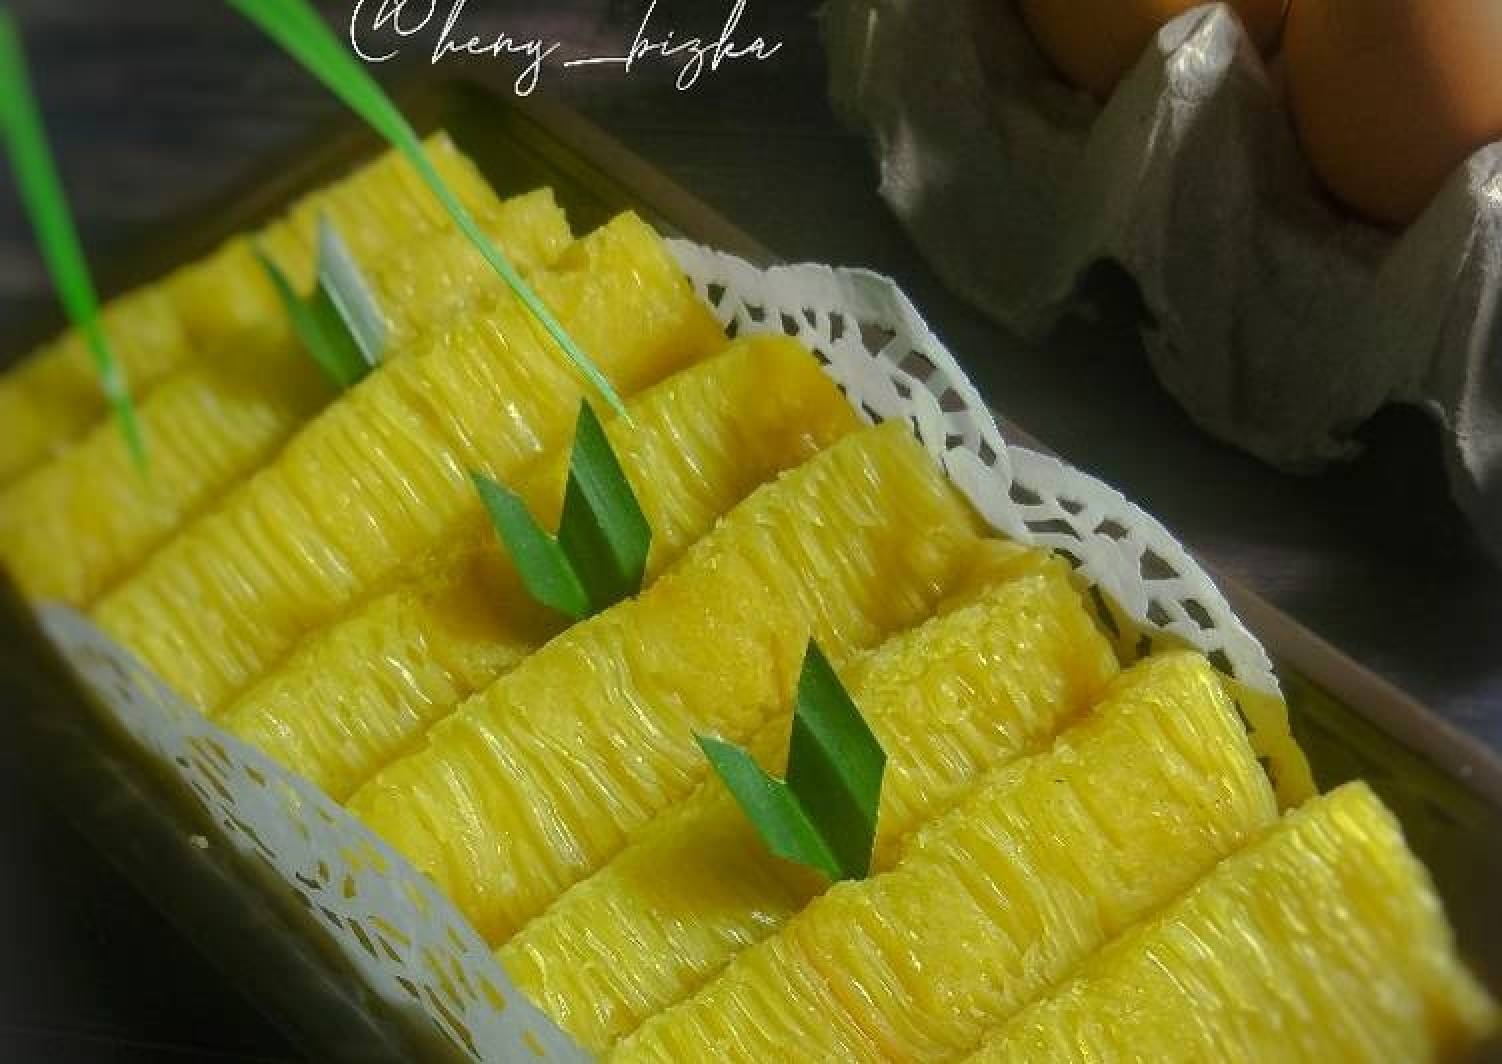bika_ambon: (22, 191, 1339, 1038)
